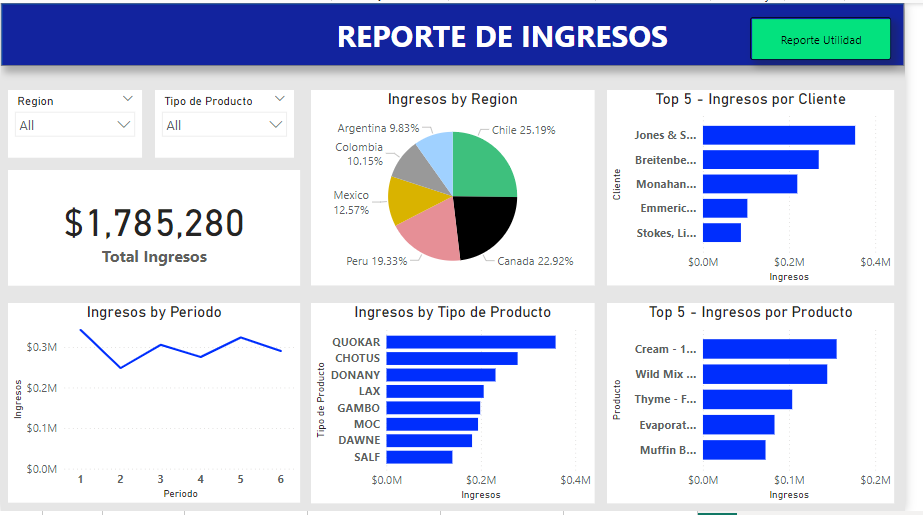

Layout of this report page (visuals, bound fields, positions):
{"tool":"powerbi","page":{"name":"Reporte Ingresos","canvas":[1280,720],"ordinal":4},"visuals":[{"type":"shape","box":[0,0,1280,88.9],"z":0},{"type":"slicer","fields":{"Values":["LookupProducto.Tipo de Producto"]},"box":[217.8,123.1,196.6,96.2],"z":1000},{"type":"slicer","fields":{"Values":["LookupCliente.Region"]},"box":[9.9,123.1,189.5,96.2],"z":2000},{"type":"card","title":"Total Ingresos","fields":{"Values":["Sum(Finanzas1.Ingresos)"]},"box":[9.9,236.2,414.4,164.1],"z":3000},{"type":"pieChart","fields":{"Y":["Sum(Finanzas1.Ingresos)"],"Category":["LookupCliente.Region"]},"box":[439.9,123.1,401.7,277.2],"z":4000},{"type":"clusteredBarChart","title":"Top 5 - Ingresos por Cliente","fields":{"Y":["Sum(Finanzas1.Ingresos)"],"Category":["LookupCliente.Cliente"]},"box":[858.6,123.1,407.4,277.2],"z":5000},{"type":"lineChart","fields":{"Y":["Sum(Finanzas1.Ingresos)"],"Category":["Finanzas1.Periodo"]},"box":[9.9,425.8,414.4,282.9],"z":6000},{"type":"clusteredBarChart","fields":{"Y":["Sum(Finanzas1.Ingresos)"],"Category":["LookupProducto.Tipo de Producto"]},"box":[439.9,425.8,401.7,284.3],"z":7000},{"type":"clusteredBarChart","title":"Top 5 - Ingresos por Producto","fields":{"Y":["Sum(Finanzas1.Ingresos)"],"Category":["LookupProducto.Producto"]},"box":[858.6,425.8,407.4,284.3],"z":8000},{"type":"textbox","box":[459.2,11.8,502.2,77],"z":9001},{"type":"actionButton","title":"Producto","box":[1062.2,19.2,200,60.7],"z":9002}]}

Visuals, with their boxes in screenshot pixels (x1, y1, x2, y2), scaled from the page's 1280x720 canvas onto the 923x515 screenshot:
shape: 0:0:922:64
slicer - LookupProducto.Tipo de Producto: 157:88:299:157
slicer - LookupCliente.Region: 7:88:144:157
"Total Ingresos" card: 7:169:306:286
pieChart - Sum(Finanzas1.Ingresos) x LookupCliente.Region: 317:88:607:286
"Top 5 - Ingresos por Cliente" clusteredBarChart: 619:88:913:286
lineChart - Sum(Finanzas1.Ingresos) x Finanzas1.Periodo: 7:305:306:507
clusteredBarChart - Sum(Finanzas1.Ingresos) x LookupProducto.Tipo de Producto: 317:305:607:508
"Top 5 - Ingresos por Producto" clusteredBarChart: 619:305:913:508
textbox: 331:8:693:64
"Producto" actionButton: 766:14:910:57
